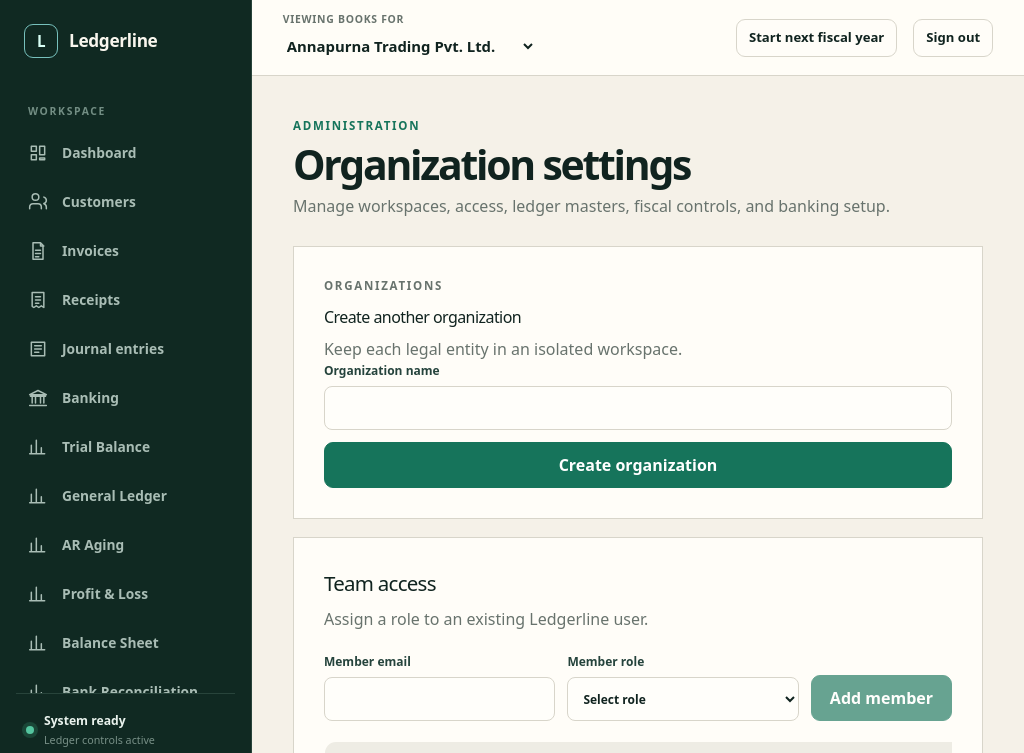
it: complete endpoint settings UI › adds an organization member with a discoverable role
The width and height of the screenshot is (1024, 753).
Check: the heading "Organization settings" is shown, box [293,136,690,192]
Type "accountant@example.com" into the field labelled "Member email". click: (440, 699)
box: [324,677,556,721]
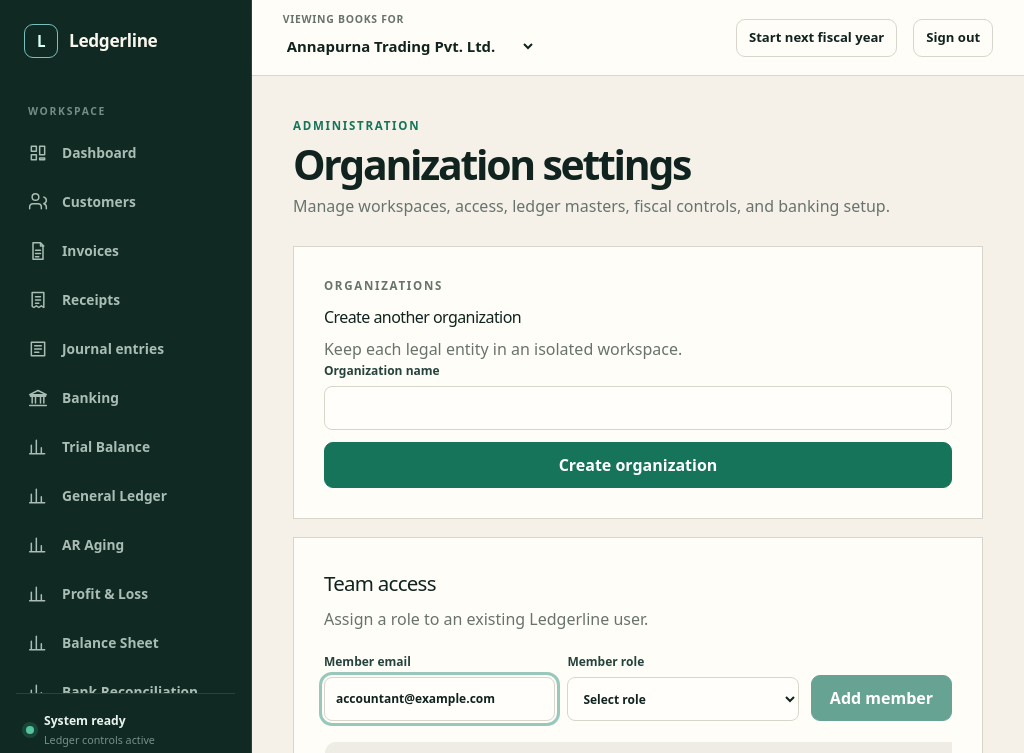
Select "Accountant" in the dropdown labelled "Member role". click: (683, 699)
box: [567,677,799,721]
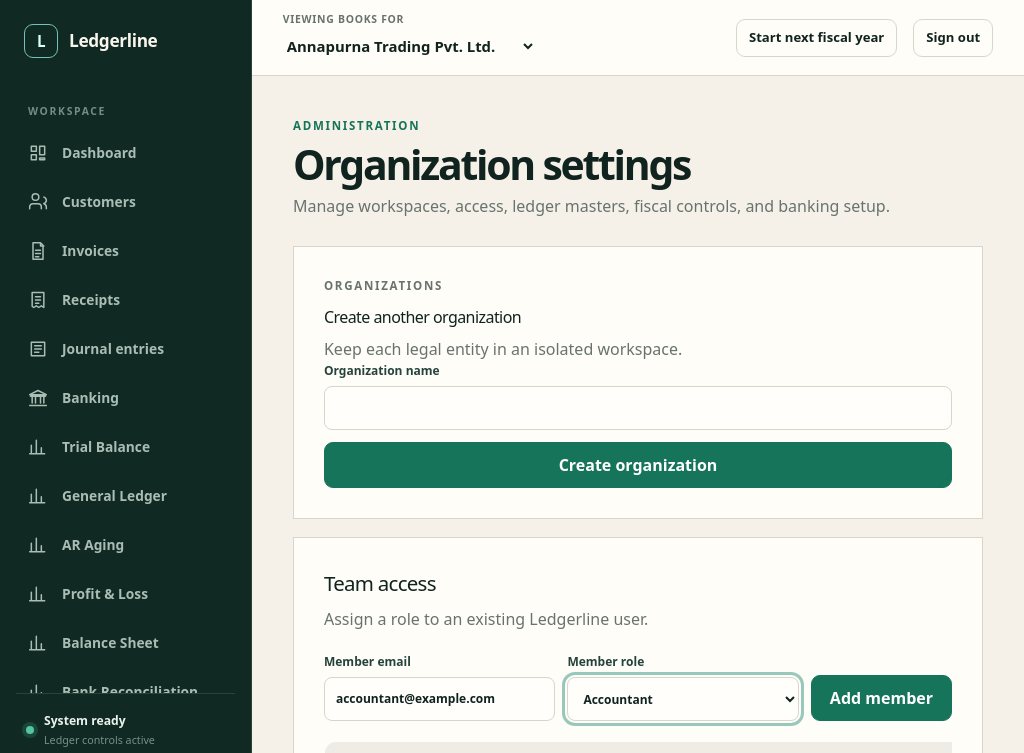
Click the button "Add member". click: (882, 698)
box: [811,675,952,721]
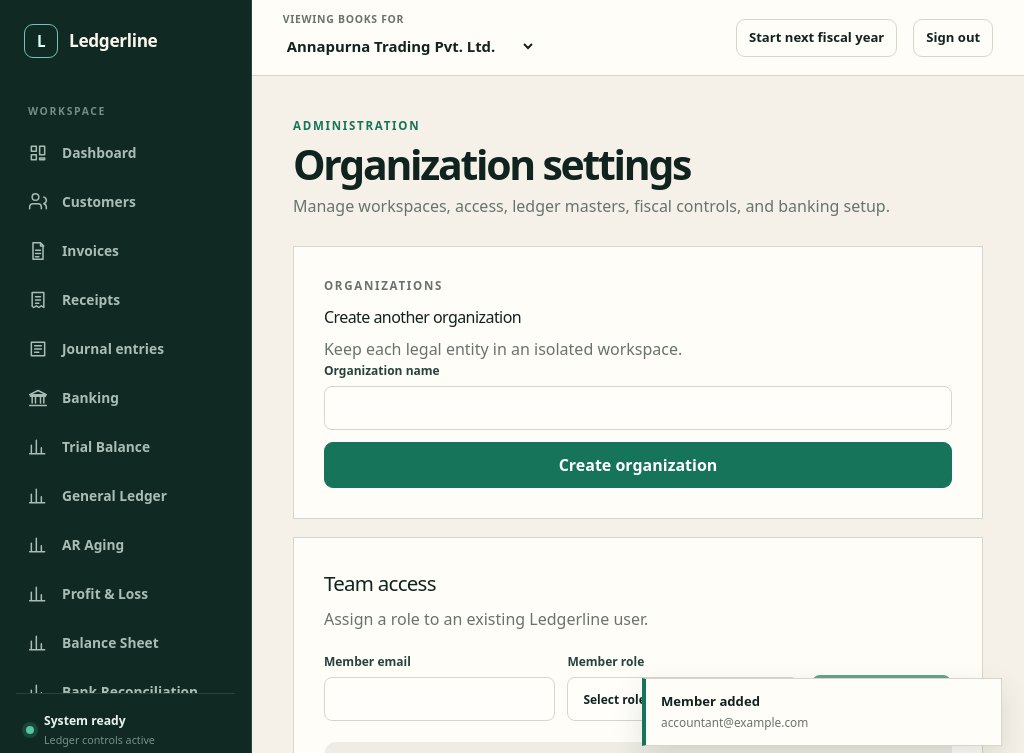
Check: the text "accountant@example.com" is shown, box [661,714,808,730]
